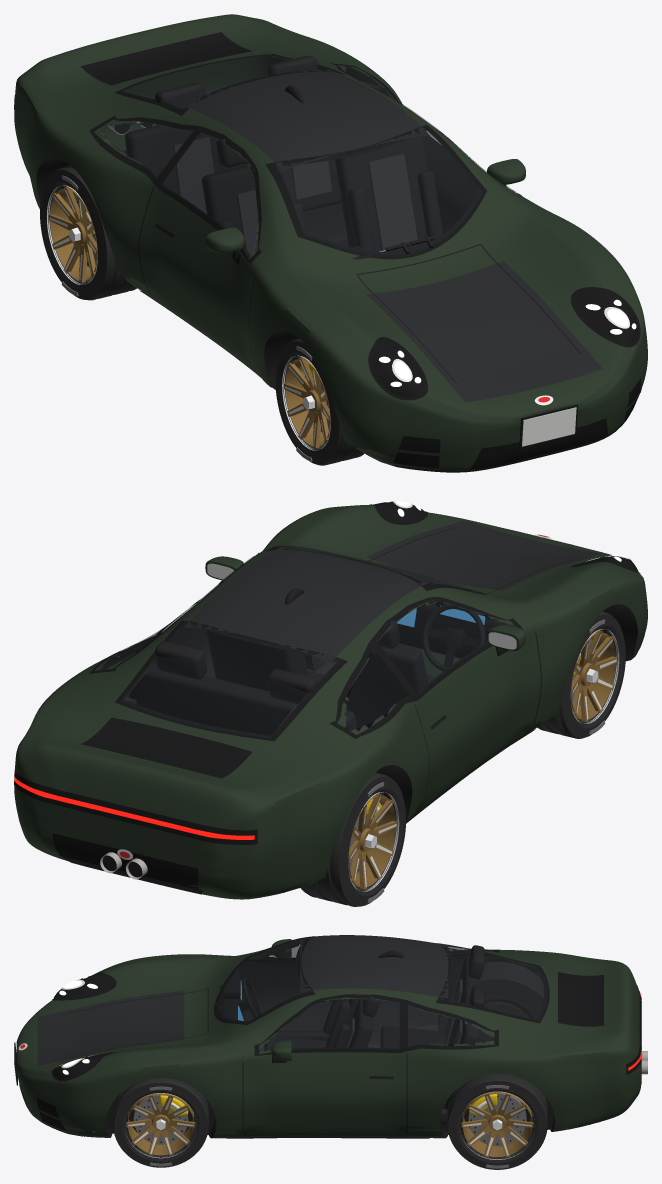
The picture shows the model from 3 angles, top to bottom: view 1: azimuth 30°, elevation 25°; view 2: azimuth 150°, elevation 25°; view 3: azimuth 270°, elevation 25°; orthographic projection. The views are drawn at different scales.
Visible parts, largest first — view 1: Body, Wheel_RR, Wheel_FR; view 2: Body, Wheel_RR, Wheel_FR; view 3: Body, Wheel_RL, Wheel_FL, Wheel_RR.
Boxes of the visible parts, x1,y1,x2,y2 form: Body: (14, 14, 647, 472); Wheel_RR: (40, 166, 136, 300); Wheel_FR: (275, 338, 364, 465); Body: (14, 501, 647, 899); Wheel_RR: (301, 772, 405, 906); Wheel_FR: (537, 612, 625, 738); Body: (14, 935, 647, 1138); Wheel_RL: (447, 1074, 547, 1169); Wheel_FL: (113, 1078, 208, 1167); Wheel_RR: (485, 990, 539, 1019).
Bounding box in the file's own units: 1.96 × 1.34 × 4.63.
